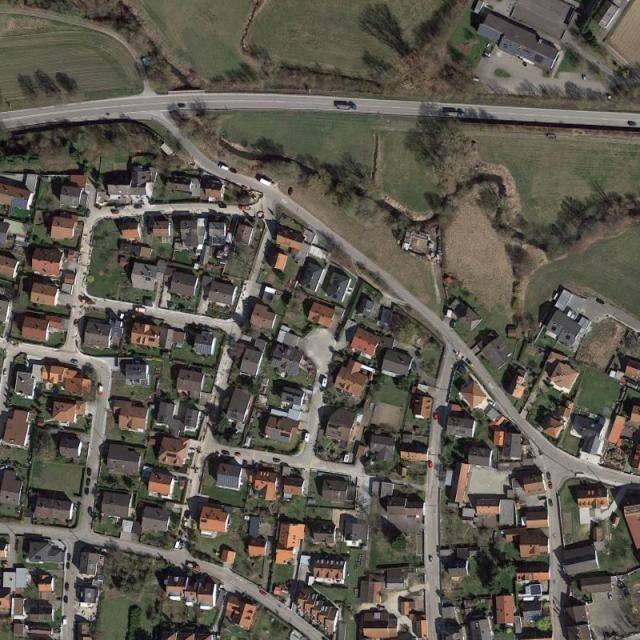vehicle: (474, 1, 485, 14), (336, 105, 357, 111), (445, 112, 466, 117), (259, 178, 271, 186), (219, 164, 230, 172), (134, 306, 146, 313), (174, 541, 181, 550), (93, 203, 102, 210), (86, 467, 92, 477), (487, 400, 495, 407), (259, 590, 267, 597), (70, 358, 79, 364), (64, 582, 70, 591), (98, 386, 104, 395), (608, 591, 613, 601), (84, 487, 90, 495), (178, 102, 186, 108), (472, 76, 480, 82), (273, 459, 282, 464), (63, 617, 67, 628), (434, 411, 438, 421), (429, 555, 434, 563), (548, 498, 553, 506), (86, 478, 91, 486), (134, 204, 142, 209), (64, 595, 68, 604), (484, 51, 490, 57), (437, 622, 441, 631), (74, 318, 78, 327), (628, 122, 636, 126), (67, 554, 71, 562), (234, 453, 242, 457), (88, 506, 92, 514), (111, 210, 119, 214), (546, 473, 551, 479), (4, 368, 7, 378), (548, 482, 552, 489), (66, 562, 70, 569), (429, 462, 433, 469), (516, 636, 519, 640)
